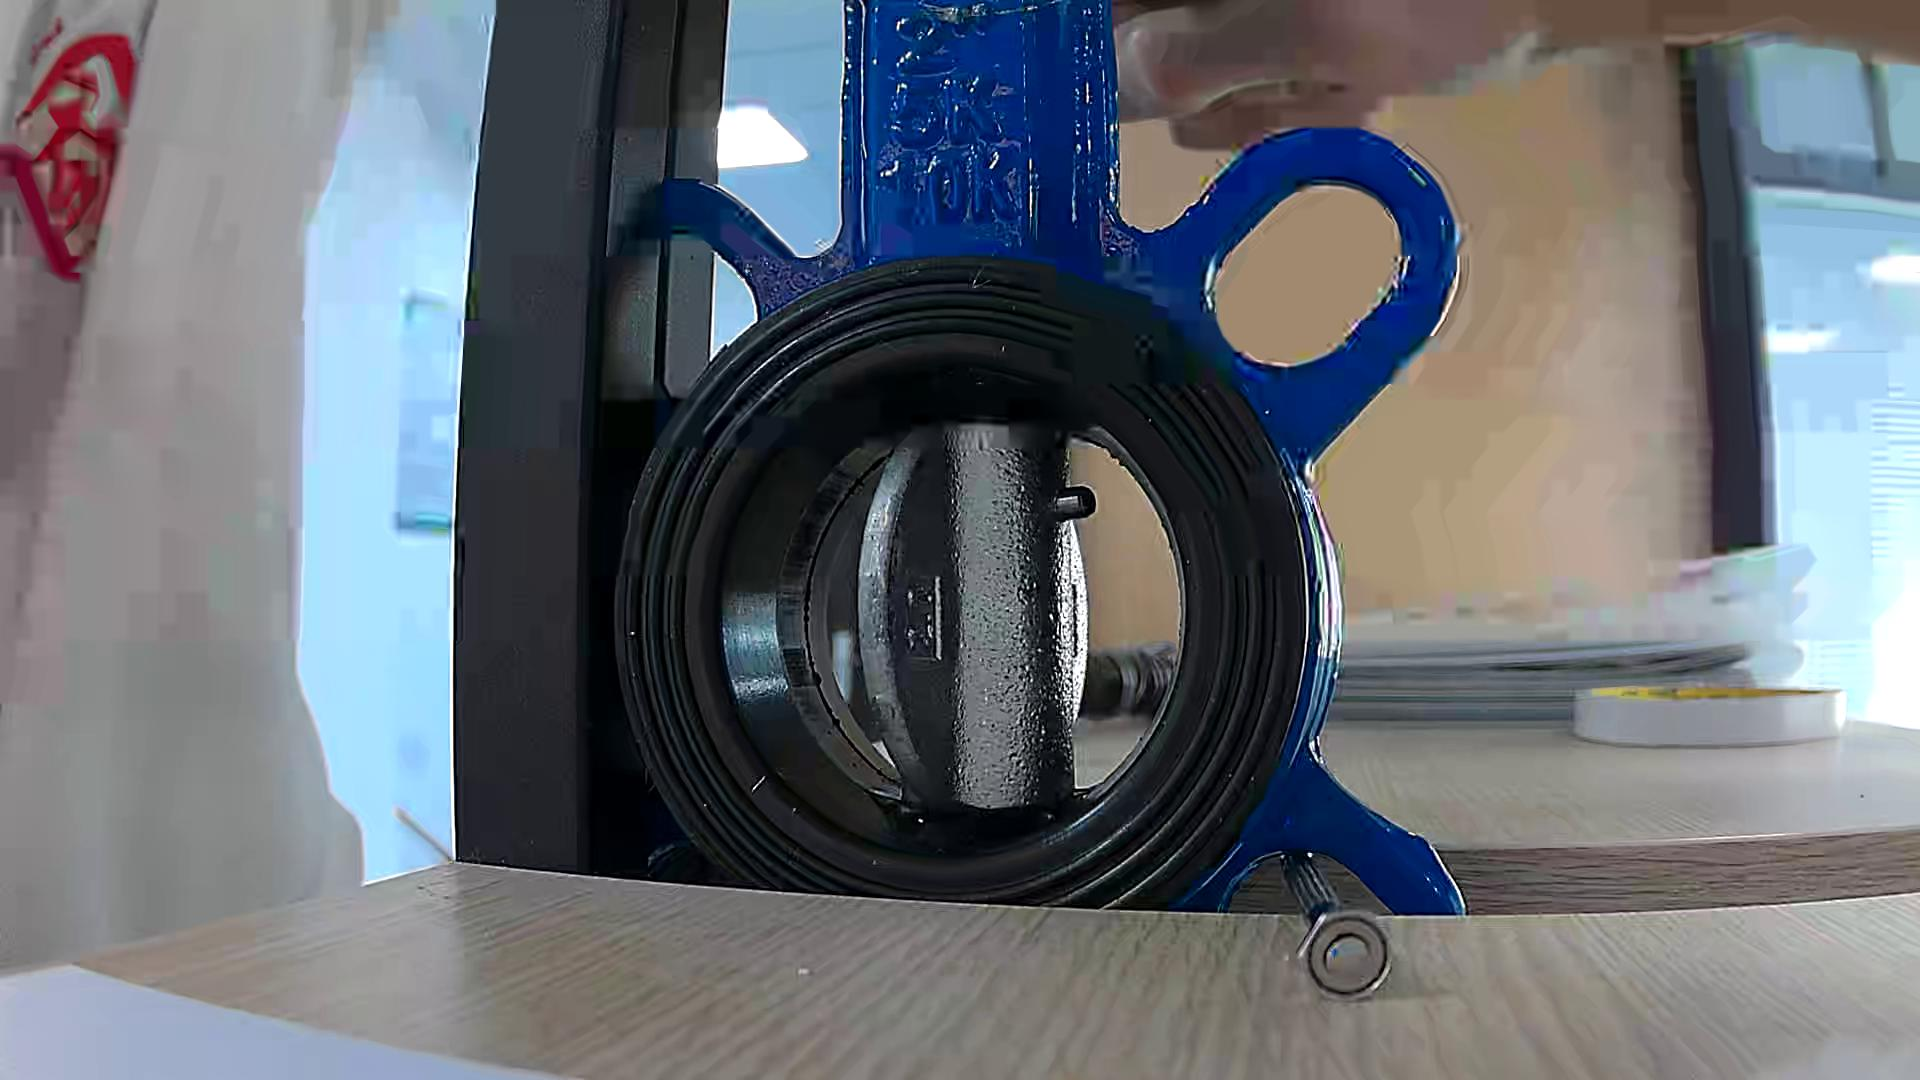valve: (855, 423, 1088, 814)
